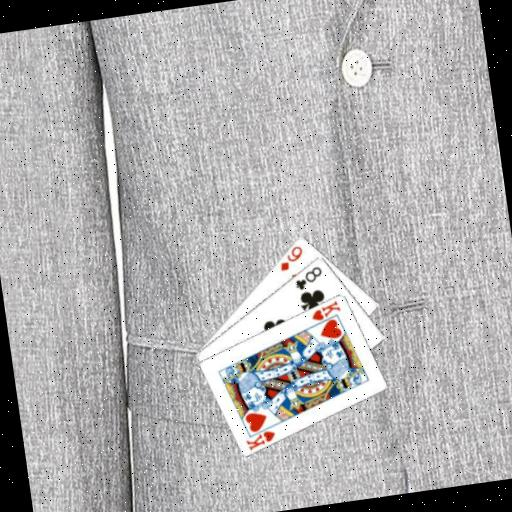8C: (290, 263, 326, 293)
9D: (274, 242, 307, 273)
KH: (242, 426, 279, 452), (307, 297, 343, 323)
